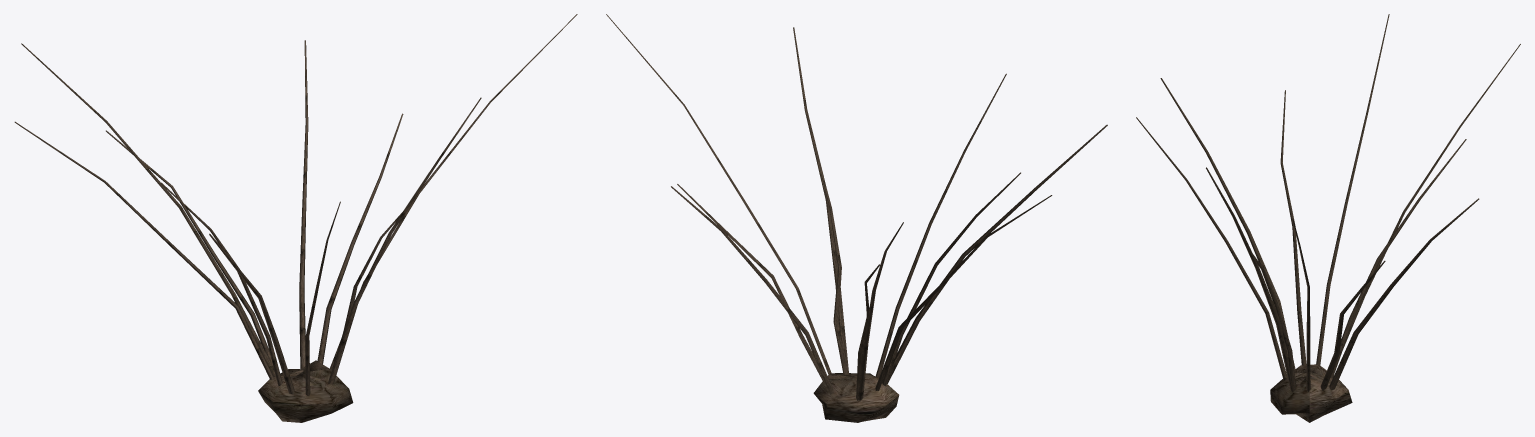
File: veg_hazel_stool_bare.glb
The picture shows the model from 3 angles, left to right: view 1: azimuth 30°, elevation 25°; view 2: azimuth 150°, elevation 25°; view 3: azimuth 270°, elevation 25°; orthographic projection. The views are drawn at different scales.
Visible parts, largest first — view 1: veg_hazel_stool_bare; view 2: veg_hazel_stool_bare; view 3: veg_hazel_stool_bare.
Boxes of the visible parts, left/top/right/bottom form: veg_hazel_stool_bare: left=14, top=14, right=577, bottom=422; veg_hazel_stool_bare: left=606, top=14, right=1107, bottom=422; veg_hazel_stool_bare: left=1136, top=14, right=1520, bottom=422.
Bounding box in the file's own units: 3.74 × 2.41 × 2.7.
Materials: 1 (1 with a texture image).
